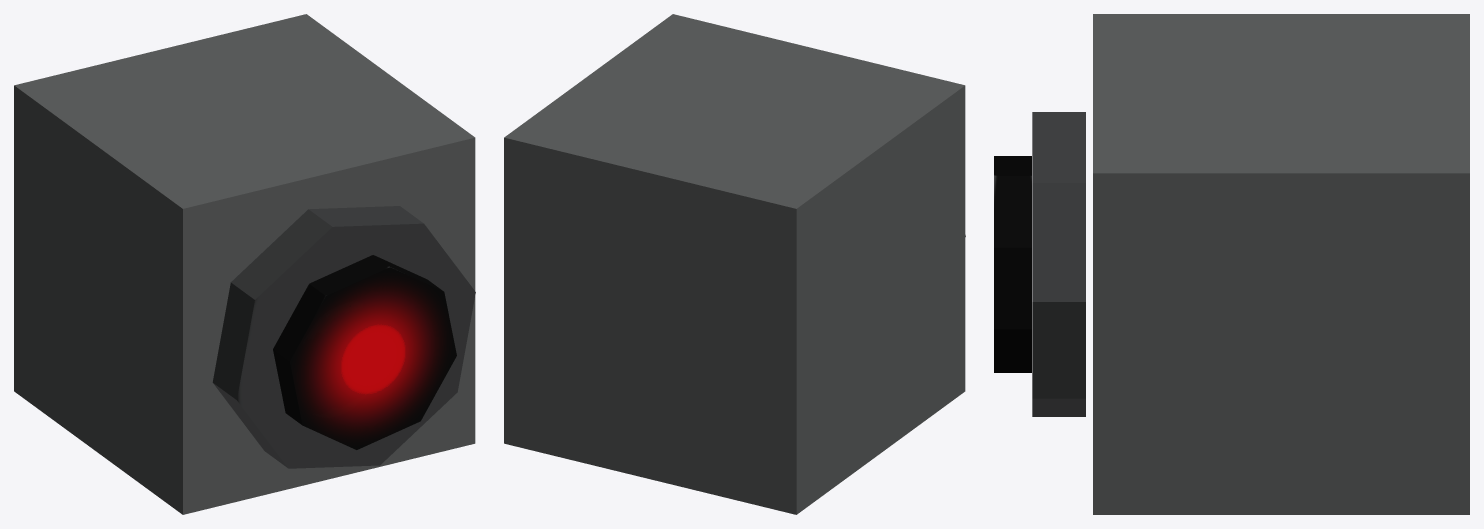
Rendered from player_head.obj.
3 renders of one model, left to right at view 1: azimuth 30°, elevation 25°; view 2: azimuth 150°, elevation 25°; view 3: azimuth 270°, elevation 25°, orthographic. The views are drawn at different scales.
Visible parts, largest first — view 1: Cube, 円柱, 円柱.001; view 2: Cube; view 3: Cube, 円柱, 円柱.001.
Boxes of the visible parts, <box> form: Cube: <box>14,14,475,514</box>; 円柱: <box>212,206,475,468</box>; 円柱.001: <box>273,255,456,449</box>; Cube: <box>504,14,965,514</box>; Cube: <box>1093,14,1469,514</box>; 円柱: <box>1032,112,1085,416</box>; 円柱.001: <box>994,156,1031,372</box>.
Bounding box in the file's own units: 1 × 1 × 1.26.
Materials: 3 (3 with a texture image).
